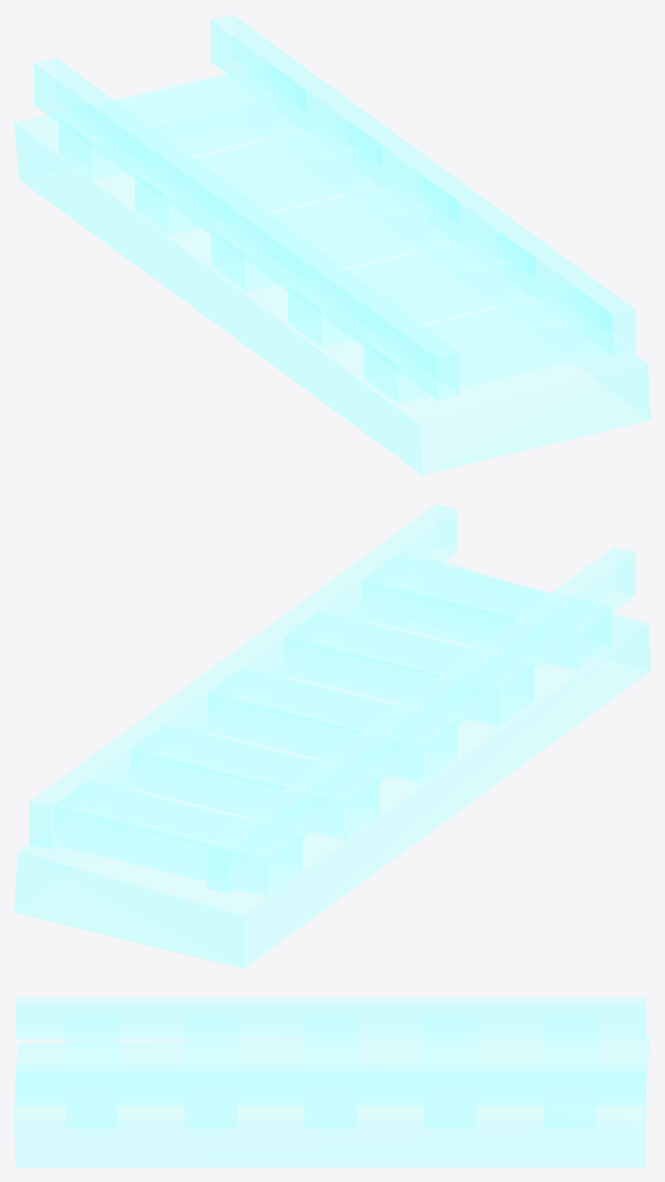
The model's file is GH_Rail_Straight.fbx.
3 renders of one model, top to bottom at view 1: azimuth 30°, elevation 25°; view 2: azimuth 150°, elevation 25°; view 3: azimuth 270°, elevation 25°, orthographic. The views are drawn at different scales.
Visible parts, largest first — view 1: SM_Rail_Straight; view 2: SM_Rail_Straight; view 3: SM_Rail_Straight.
Boxes of the visible parts, box(x1,y1,x2,y2) form: SM_Rail_Straight: box(14, 14, 650, 475); SM_Rail_Straight: box(14, 504, 650, 968); SM_Rail_Straight: box(14, 997, 650, 1167).
Bounding box in the file's own units: 0.6265 × 0.295 × 1.92.
